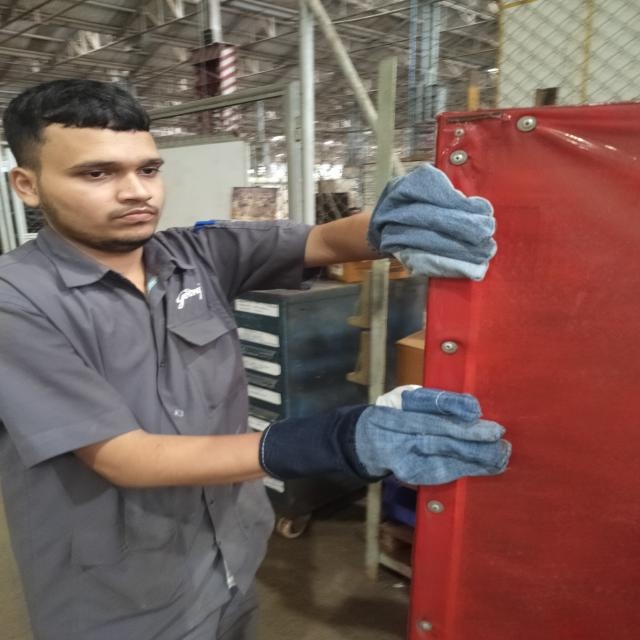Gloves-Detection: (260, 388, 514, 488), (376, 165, 506, 283)
